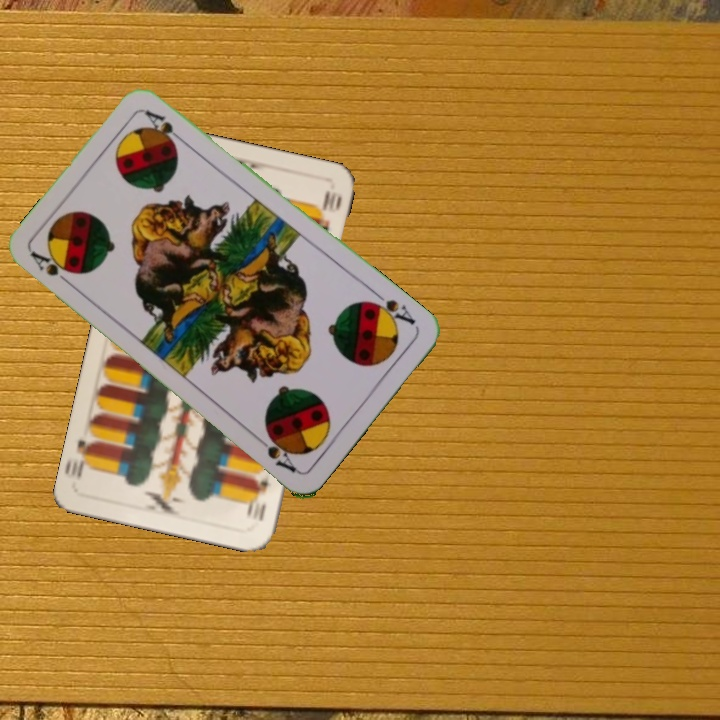E10: (245, 476, 271, 524)
SA: (363, 287, 419, 329), (26, 247, 77, 290)
